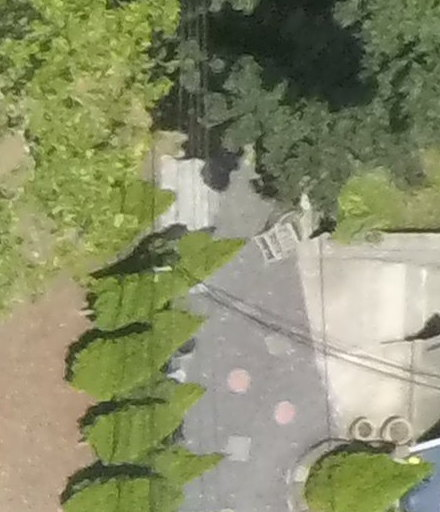container: (381, 408, 415, 446), (349, 413, 378, 444)
